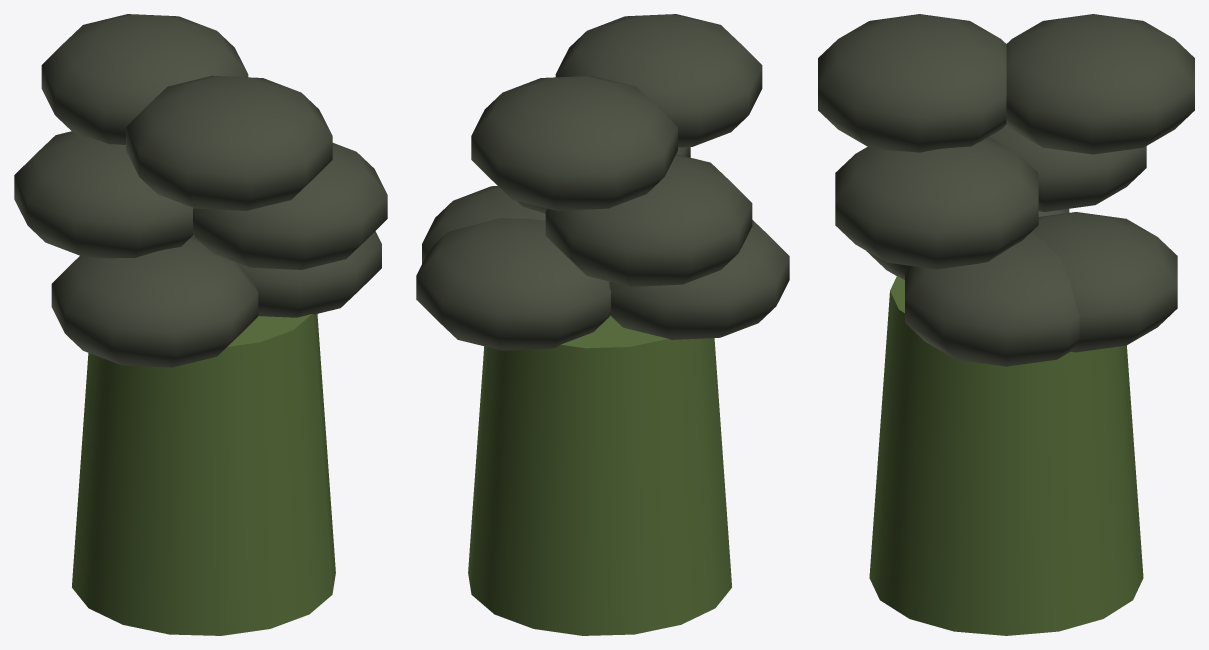
File: plant-front.glb
3 renders of one model, left to right at view 1: azimuth 30°, elevation 25°; view 2: azimuth 150°, elevation 25°; view 3: azimuth 270°, elevation 25°, orthographic. The views are drawn at different scales.
Parts seen in each view (by area): view 1: REF-L06-R01-plant-front-part-1, REF-L06-R01-plant-front-part-4, REF-L06-R01-plant-front-part-5, REF-L06-R01-plant-front-part-7, REF-L06-R01-plant-front-part-6, REF-L06-R01-plant-front-part-3, REF-L06-R01-plant-front-part-2; view 2: REF-L06-R01-plant-front-part-1, REF-L06-R01-plant-front-part-7, REF-L06-R01-plant-front-part-8, REF-L06-R01-plant-front-part-6, REF-L06-R01-plant-front-part-4, REF-L06-R01-plant-front-part-5, REF-L06-R01-plant-front-part-2; view 3: REF-L06-R01-plant-front-part-1, REF-L06-R01-plant-front-part-7, REF-L06-R01-plant-front-part-4, REF-L06-R01-plant-front-part-3, REF-L06-R01-plant-front-part-2, REF-L06-R01-plant-front-part-8, REF-L06-R01-plant-front-part-6.
Boxes of the visible parts, x1,y1,x2,y2 form: REF-L06-R01-plant-front-part-1: [72, 314, 335, 635]; REF-L06-R01-plant-front-part-4: [126, 75, 332, 210]; REF-L06-R01-plant-front-part-5: [51, 236, 258, 367]; REF-L06-R01-plant-front-part-7: [41, 14, 248, 144]; REF-L06-R01-plant-front-part-6: [14, 131, 193, 258]; REF-L06-R01-plant-front-part-3: [193, 143, 387, 269]; REF-L06-R01-plant-front-part-2: [239, 231, 381, 317]; REF-L06-R01-plant-front-part-1: [468, 315, 731, 635]; REF-L06-R01-plant-front-part-7: [471, 75, 677, 210]; REF-L06-R01-plant-front-part-8: [416, 218, 610, 350]; REF-L06-R01-plant-front-part-6: [545, 154, 752, 286]; REF-L06-R01-plant-front-part-4: [555, 14, 762, 147]; REF-L06-R01-plant-front-part-5: [609, 220, 789, 339]; REF-L06-R01-plant-front-part-2: [422, 186, 545, 263]; REF-L06-R01-plant-front-part-1: [869, 276, 1143, 635]; REF-L06-R01-plant-front-part-7: [1006, 14, 1194, 154]; REF-L06-R01-plant-front-part-4: [818, 14, 1006, 152]; REF-L06-R01-plant-front-part-3: [835, 137, 1038, 269]; REF-L06-R01-plant-front-part-2: [905, 231, 1079, 366]; REF-L06-R01-plant-front-part-8: [1033, 212, 1177, 352]; REF-L06-R01-plant-front-part-6: [989, 124, 1146, 211].
Size of the model in its own units: 0.0978 by 0.1522 by 0.0963.
